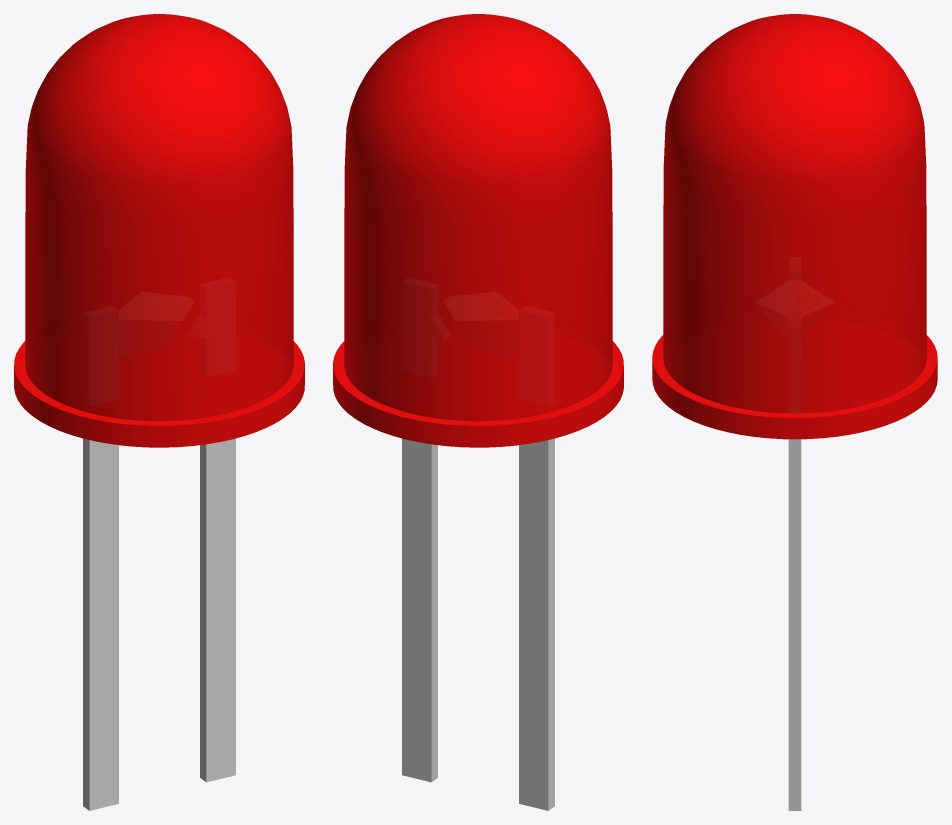
Rendered from led.glb.
The picture shows the model from 3 angles, left to right: view 1: azimuth 30°, elevation 25°; view 2: azimuth 150°, elevation 25°; view 3: azimuth 270°, elevation 25°; orthographic projection.
Visible parts, largest first — view 1: plastic_2, metal_1; view 2: plastic_2, metal_1; view 3: plastic_2, metal_1.
Part boxes in pixels (x1=…): plastic_2: x1=14, y1=14, x2=304, y2=447; metal_1: x1=83, y1=438, x2=235, y2=810; plastic_2: x1=333, y1=14, x2=623, y2=447; metal_1: x1=402, y1=438, x2=554, y2=810; plastic_2: x1=652, y1=14, x2=937, y2=439; metal_1: x1=788, y1=439, x2=801, y2=810.
Bounding box in the file's own units: 2.16 × 6.24 × 2.16.
